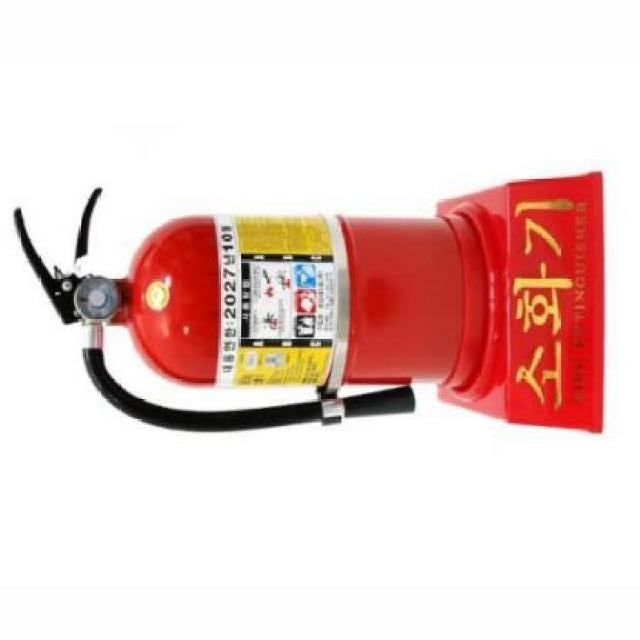fire extinguisher: (13, 186, 489, 432)
